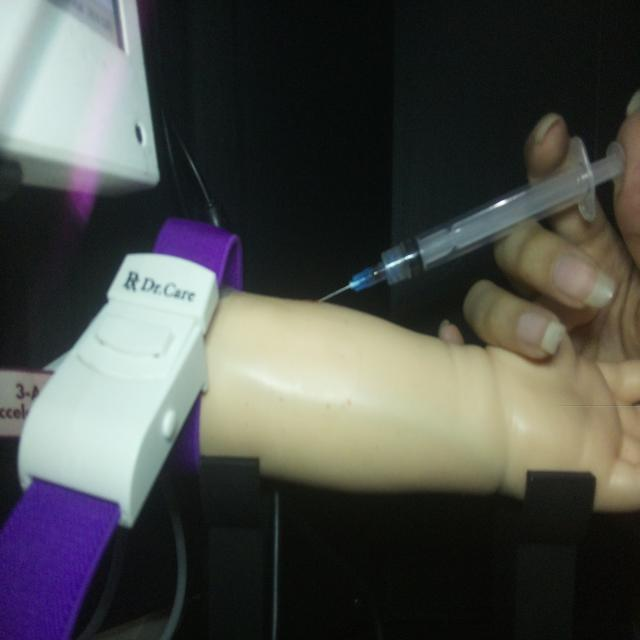17 degrees: (316, 133, 626, 305)
